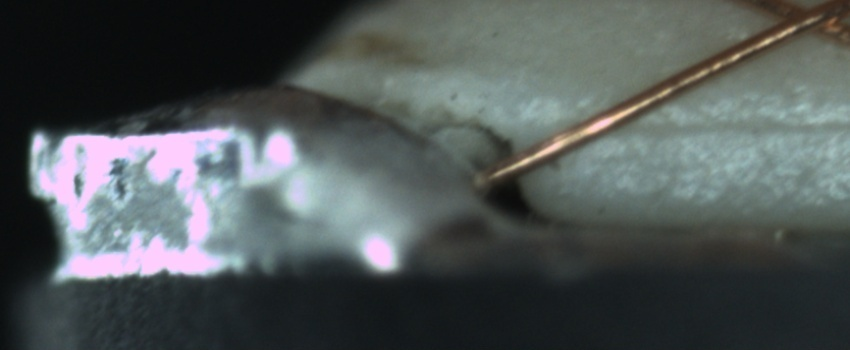CL: (756, 1, 840, 44)
DL: (609, 87, 847, 160)
